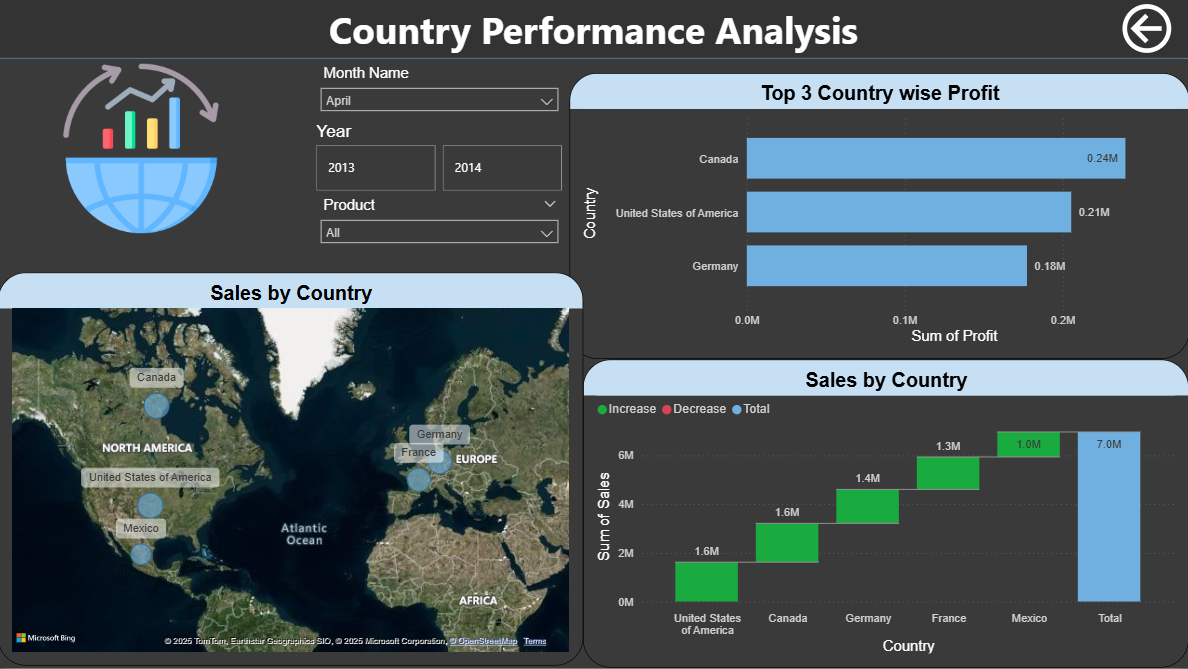

Layout of this report page (visuals, bound fields, positions):
{"tool":"powerbi","page":{"name":"Country Performance","canvas":[1280,720],"ordinal":3},"visuals":[{"type":"barChart","title":"Top 3 Country wise Profit","fields":{"Y":["Sum(financials.Profit)"],"Category":["financials.Country"]},"box":[614.1,80,666.4,307.1],"z":0},{"type":"shape","box":[0,0,1280.5,65.3],"z":1000},{"type":"image","box":[0,65.3,307.1,191.1],"z":2000},{"type":"slicer","fields":{"Values":["financials.Month Name"]},"box":[337.1,65.8,275.5,65.8],"z":3000},{"type":"advancedSlicerVisual","fields":{"Values":["financials.Date.Variation.Date Hierarchy.Year"]},"box":[337.1,131.6,275.5,80.2],"z":4000},{"type":"actionButton","box":[1203.4,0,64.3,66.2],"z":5000},{"type":"waterfallChart","title":" Sales by Country","fields":{"Category":["financials.Country"],"Y":["Sum(financials. Sales)"]},"box":[629.4,389.2,651.3,331.6],"z":6000},{"type":"slicer","fields":{"Values":["financials.Product"]},"box":[337.1,207.6,275.5,63.7],"z":7000},{"type":"map","title":" Sales by Country","fields":{"Category":["financials.Country"],"Size":["Sum(financials. Sales)"]},"box":[0,295.8,629.4,422.9],"z":8000}]}

Visuals, with their boxes in screenshot pixels (x1, y1, x2, y2), scaled from the page's 1280x720 canvas onto the 1188x669 screenshot:
"Top 3 Country wise Profit" barChart: [570,74,1187,360]
shape: [0,0,1187,61]
image: [0,61,285,238]
slicer - financials.Month Name: [313,61,569,122]
advancedSlicerVisual - financials.Date.Variation.Date Hierarchy.Year: [313,122,569,197]
actionButton: [1117,0,1177,62]
" Sales by Country" waterfallChart: [584,362,1187,668]
slicer - financials.Product: [313,193,569,252]
" Sales by Country" map: [0,275,584,668]
